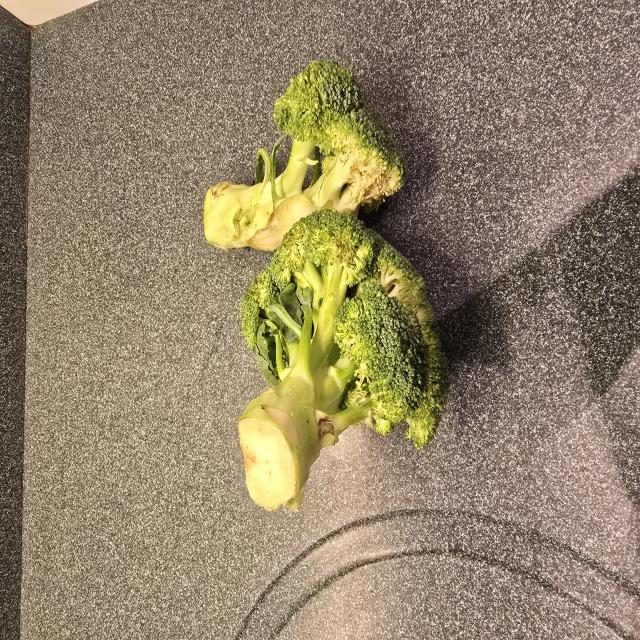Broccoli: (237, 210, 444, 511), (204, 57, 403, 250)
